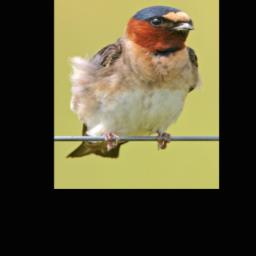Swallow: (65, 5, 203, 160)
